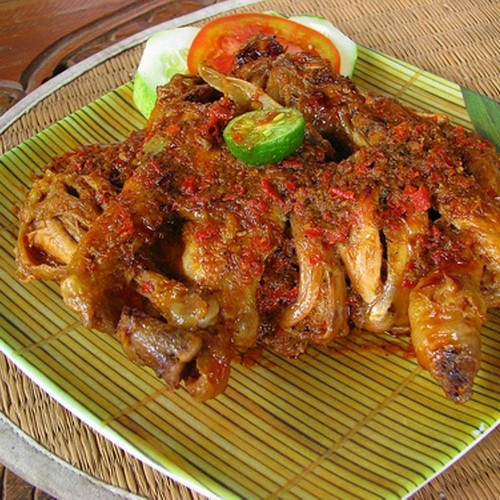ayam betutu: (42, 143, 486, 378)
